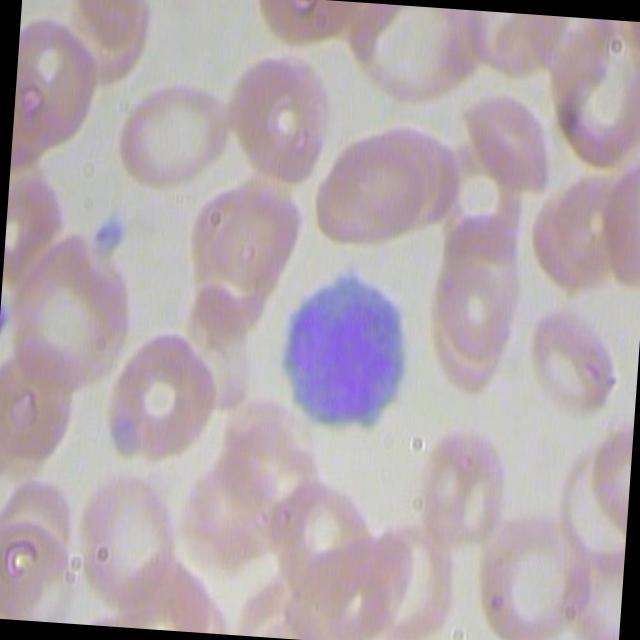Platelets: (84, 206, 132, 257)
RBC: (0, 226, 135, 401), (467, 500, 599, 640), (104, 62, 236, 201), (103, 322, 223, 468), (181, 168, 308, 305), (74, 466, 190, 612), (268, 467, 389, 606), (222, 42, 337, 186), (521, 292, 636, 422), (313, 124, 428, 254), (11, 9, 102, 162), (407, 418, 512, 542), (348, 125, 456, 238), (452, 82, 560, 195)
WBC: (262, 252, 419, 439)
